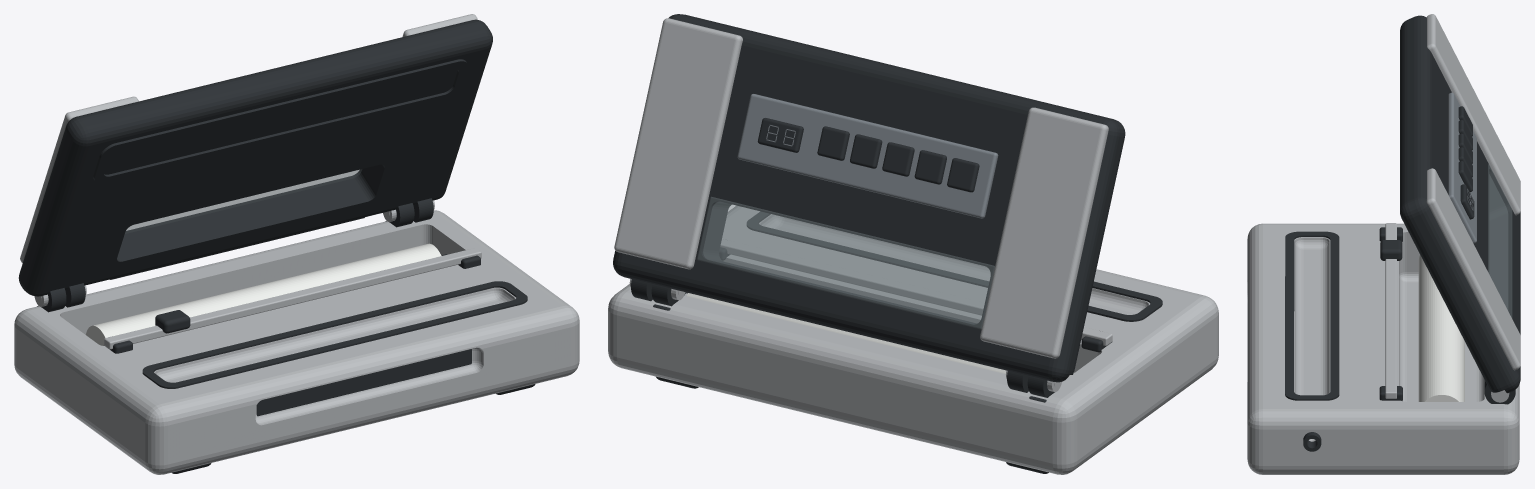
Rendered from A-NEW-20261026-FOOD-VACUUM-SEALER-001_LOD0_R6.glb.
3 views of the same model, side by side, from view 1: azimuth 30°, elevation 25°; view 2: azimuth 150°, elevation 25°; view 3: azimuth 270°, elevation 25° (orthographic). The views are drawn at different scales.
Visible parts, largest first — view 1: lower body with actual wells, open lid shell, lid inner sealing strip, lower vacuum gasket, plain packaging film roll, generic cutter rail, front recessed handle backing, alpha roll viewing pane, silver lid wing -0.141, static cutter slider; view 2: lower body with actual wells, open lid shell, silver lid wing -0.141, silver lid wing 0.141, alpha roll viewing pane, original control panel, generic cutter rail, lower vacuum gasket, plain packaging film roll, inactive seven segment display backing, blank physical control 1, blank physical control 0 (+3 smaller); view 3: lower body with actual wells, open lid shell, plain packaging film roll, silver lid wing 0.141, silver lid wing -0.141, lower vacuum gasket, alpha roll viewing pane, original control panel, generic cutter rail, static cutter slider, inactive seven segment display backing, right hose socket rim.
Part boxes in pixels (x1,y1,x2,y2): lower body with actual wells: (14, 210, 579, 474); open lid shell: (18, 19, 492, 296); lid inner sealing strip: (93, 59, 468, 184); lower vacuum gasket: (142, 281, 527, 388); plain packaging film roll: (86, 243, 441, 345); generic cutter rail: (104, 248, 481, 349); front recessed handle backing: (256, 349, 471, 416); alpha roll viewing pane: (125, 169, 361, 233); silver lid wing -0.141: (20, 96, 138, 262); static cutter slider: (155, 310, 190, 333); lower body with actual wells: (608, 206, 1218, 474); open lid shell: (613, 14, 1125, 382); silver lid wing -0.141: (980, 107, 1108, 358); silver lid wing 0.141: (614, 18, 742, 269); alpha roll viewing pane: (697, 197, 994, 328); original control panel: (737, 94, 998, 218); generic cutter rail: (720, 239, 1112, 345); lower vacuum gasket: (746, 211, 1162, 321); plain packaging film roll: (687, 293, 1073, 381); inactive seven segment display backing: (757, 118, 803, 152); blank physical control 1: (914, 150, 946, 184); blank physical control 0: (947, 158, 979, 192); lower body with actual wells: (1247, 223, 1519, 474); open lid shell: (1400, 15, 1520, 393); plain packaging film roll: (1418, 255, 1464, 401); silver lid wing 0.141: (1426, 168, 1520, 370); silver lid wing -0.141: (1426, 14, 1520, 215); lower vacuum gasket: (1285, 231, 1339, 400); alpha roll viewing pane: (1488, 164, 1512, 317); original control panel: (1448, 92, 1476, 243); generic cutter rail: (1385, 223, 1396, 398); static cutter slider: (1380, 240, 1402, 260); inactive seven segment display backing: (1460, 184, 1474, 219); right hose socket rim: (1303, 432, 1321, 451).
Size of the model in its own units: 0.366 by 0.2444 by 0.2107.
